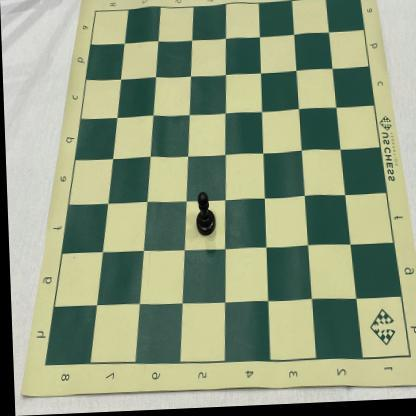black-pawn: (192, 191, 216, 239)
